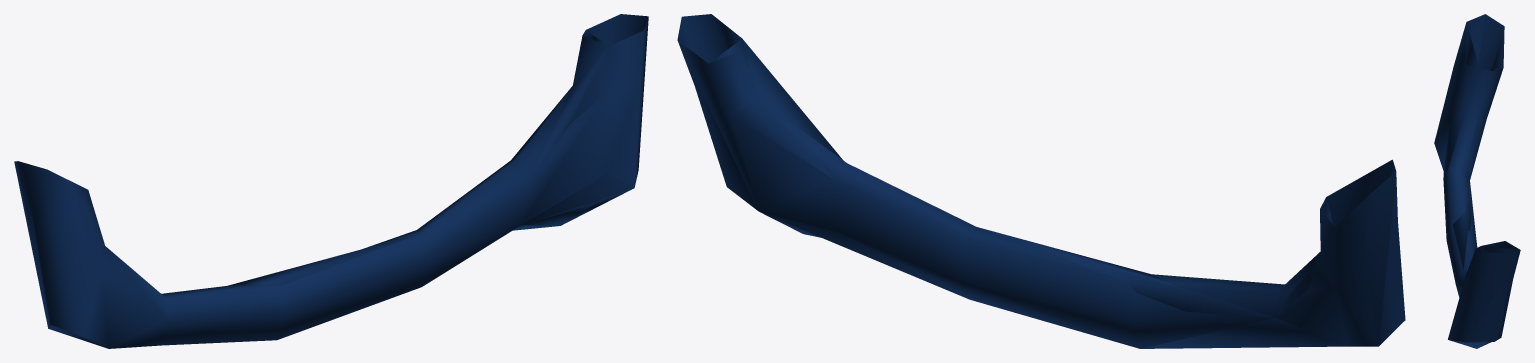
The model's file is L arcus plantaris profundus distalis.fbx.
3 views of the same model, side by side, from view 1: azimuth 30°, elevation 25°; view 2: azimuth 150°, elevation 25°; view 3: azimuth 270°, elevation 25° (orthographic). The views are drawn at different scales.
Parts seen in each view (by area): view 1: L arcus plantaris profundus distalis, L arcus plantaris profundus distalis low; view 2: L arcus plantaris profundus distalis, L arcus plantaris profundus distalis low; view 3: L arcus plantaris profundus distalis, L arcus plantaris profundus distalis low.
Part boxes in pixels (box(x1,y1,x2,y2)): L arcus plantaris profundus distalis: box(18, 14, 648, 348); L arcus plantaris profundus distalis low: box(14, 14, 648, 348); L arcus plantaris profundus distalis: box(677, 14, 1405, 348); L arcus plantaris profundus distalis low: box(678, 14, 1396, 348); L arcus plantaris profundus distalis: box(1434, 14, 1520, 348); L arcus plantaris profundus distalis low: box(1448, 14, 1520, 348).
Size of the model in its own units: 2.33 by 0.7855 by 0.372.
